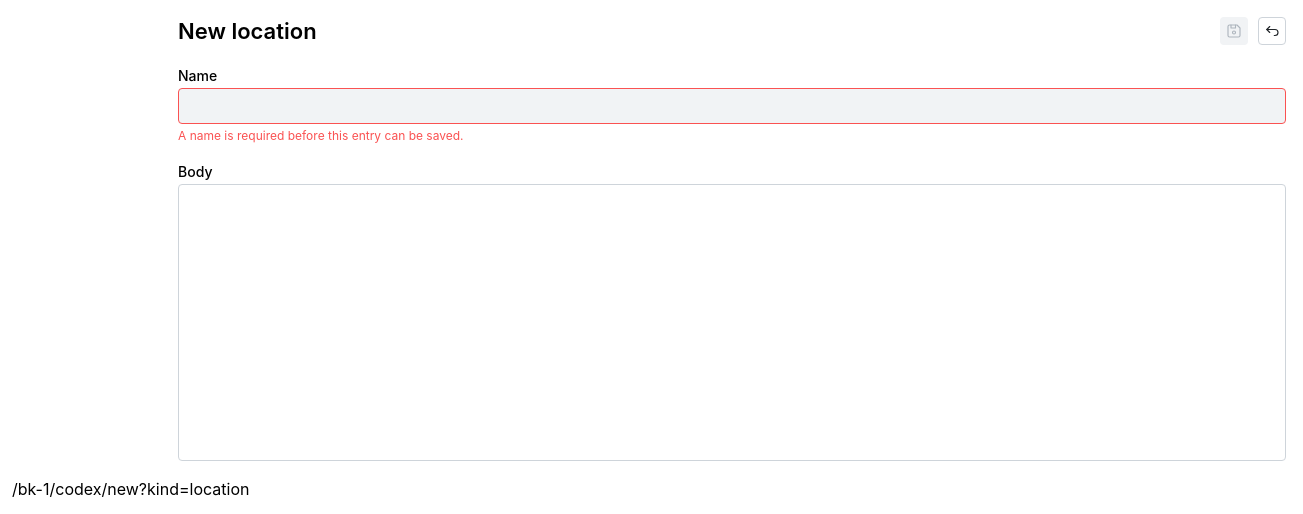
the blank route creates with the query param's kind (DoD-11) › DoD-11 (UC-069 / UC-076 precondition): a blank location creates with kind=location and navigates to the new entry
Type "The Glass Ford" into the field labelled "Name" at [732, 106], box [178, 88, 1286, 124]
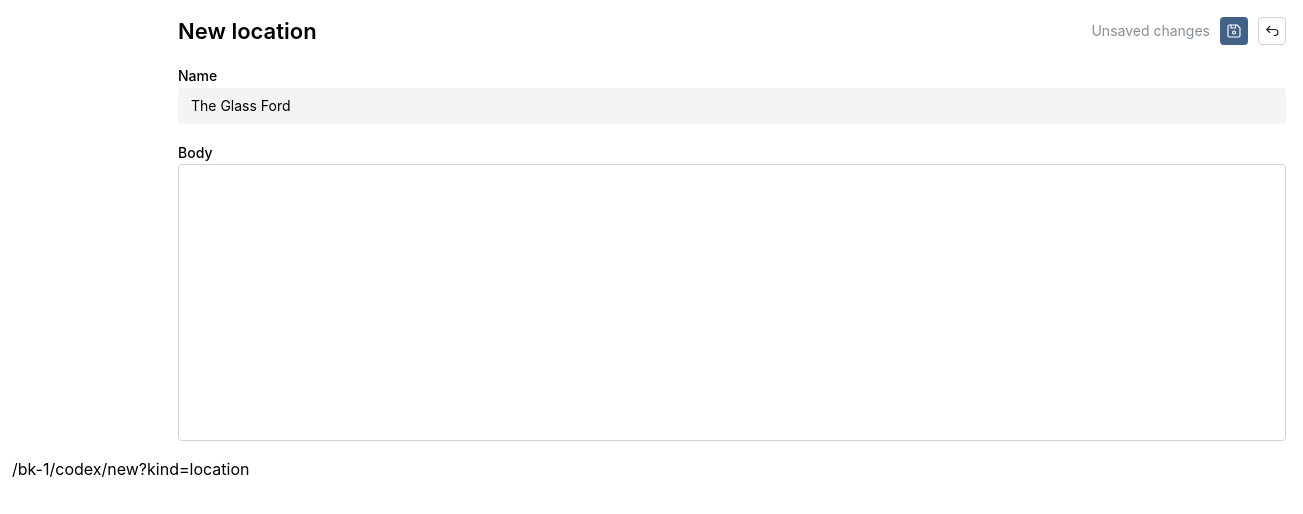
Type "A shallow crossing under white cliffs." into the text box at [732, 303], box [178, 164, 1286, 441]
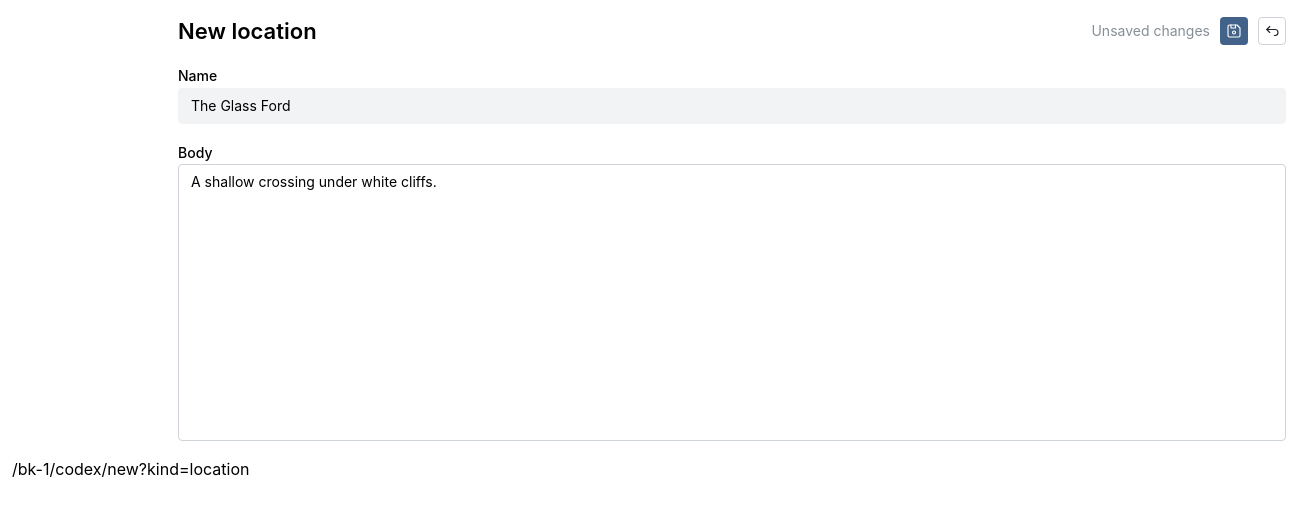
Click the button named "Save" at [1234, 31], box [1220, 17, 1248, 45]
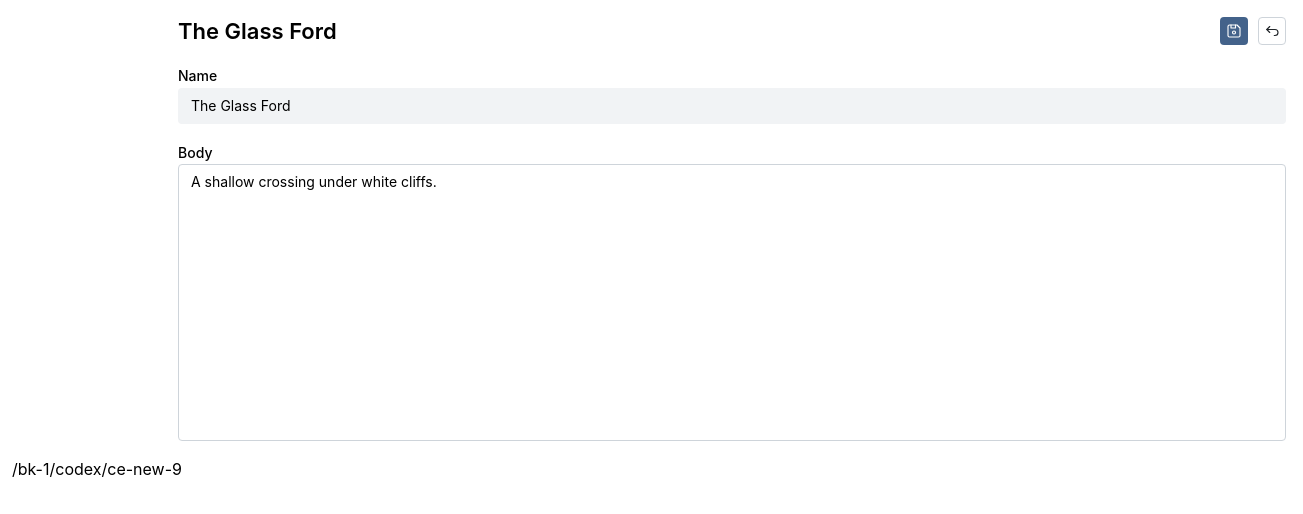
Now the heading "The Glass Ford" is shown, box [178, 16, 337, 47]
